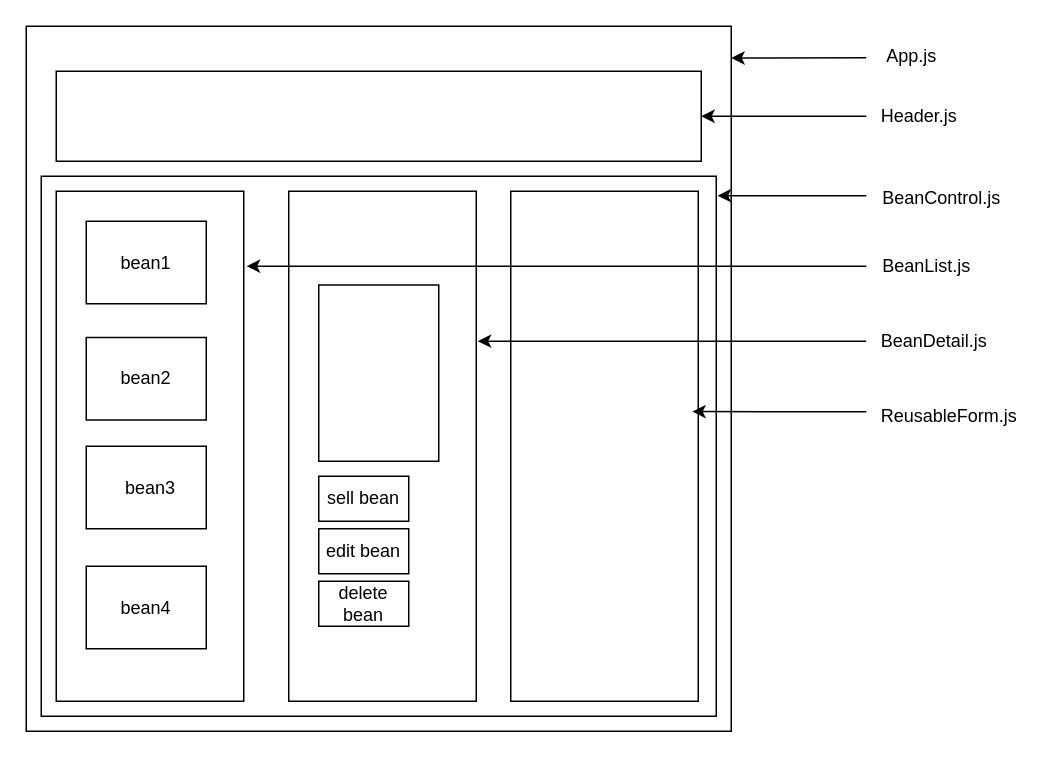
The diagram is 1058 pixels wide and 758 high, and some of its shapes have lost their labels. Each missing label, with the box of its shape:
bean name: roast: stock: sold: price: (317, 284, 439, 461)
form fields for all bean props: (509, 190, 698, 701)
